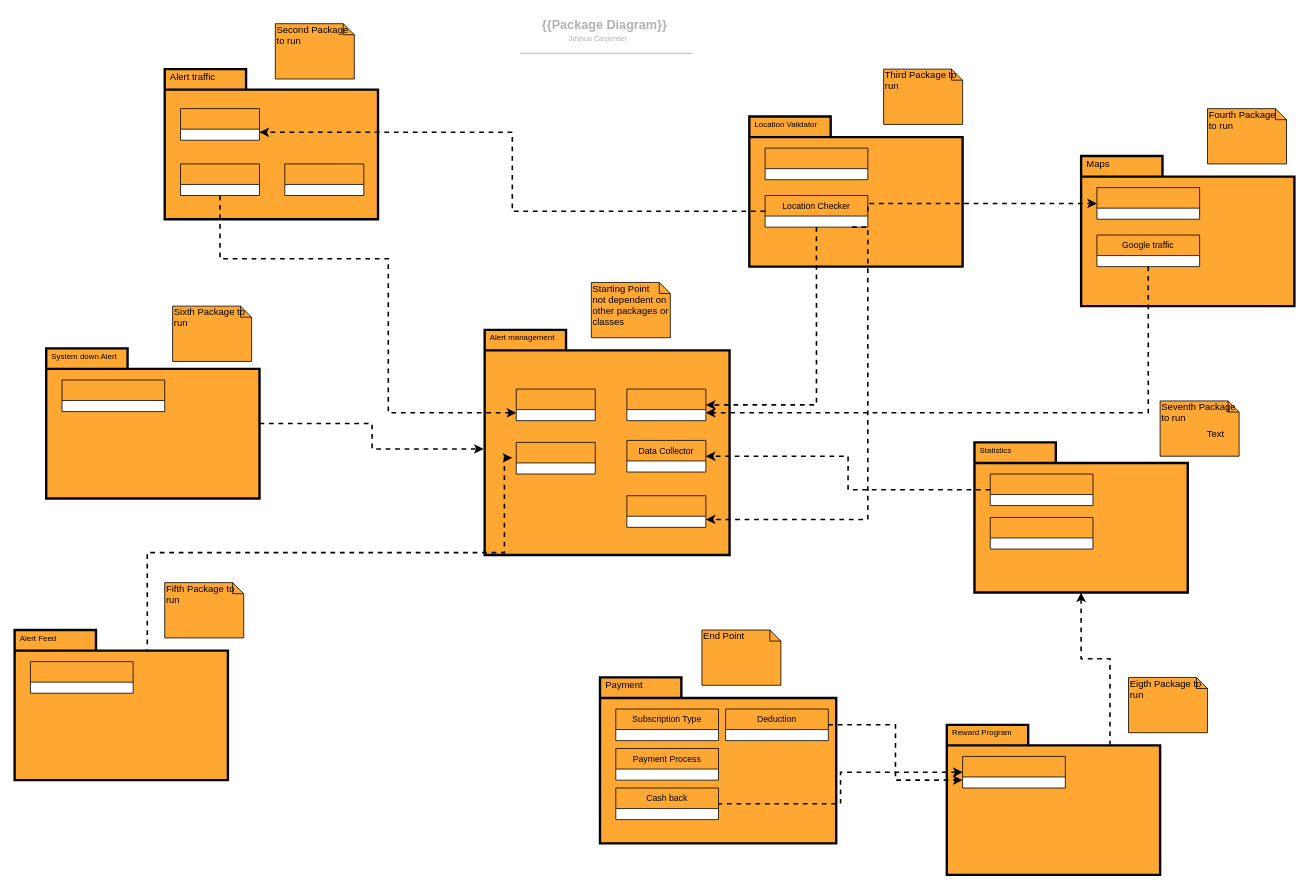
Image size: 1309x890. Some labels were removed from this diagram. The centre of each missing label's shape, as x and y in pixels:
"Alert creator" goes at point 220,124.
"Alert Reciver" goes at point 555,404.
"Alert router" goes at point 220,179.
"Alert Searcher" goes at point 324,179.
"Alert sender" goes at point 555,458.
"Alert Sorter" goes at point 81,677.
"Claimed Parking" goes at point 666,511.
"Google maps" goes at point 1148,203.
"Permission requester" goes at point 816,163.
"Radius detector" goes at point 666,404.
"Stat Collector" goes at point 1041,489.
"Stats" goes at point 1041,533.
"System checker" goes at point 113,395.
"Wait time converter" goes at point 1013,772.
